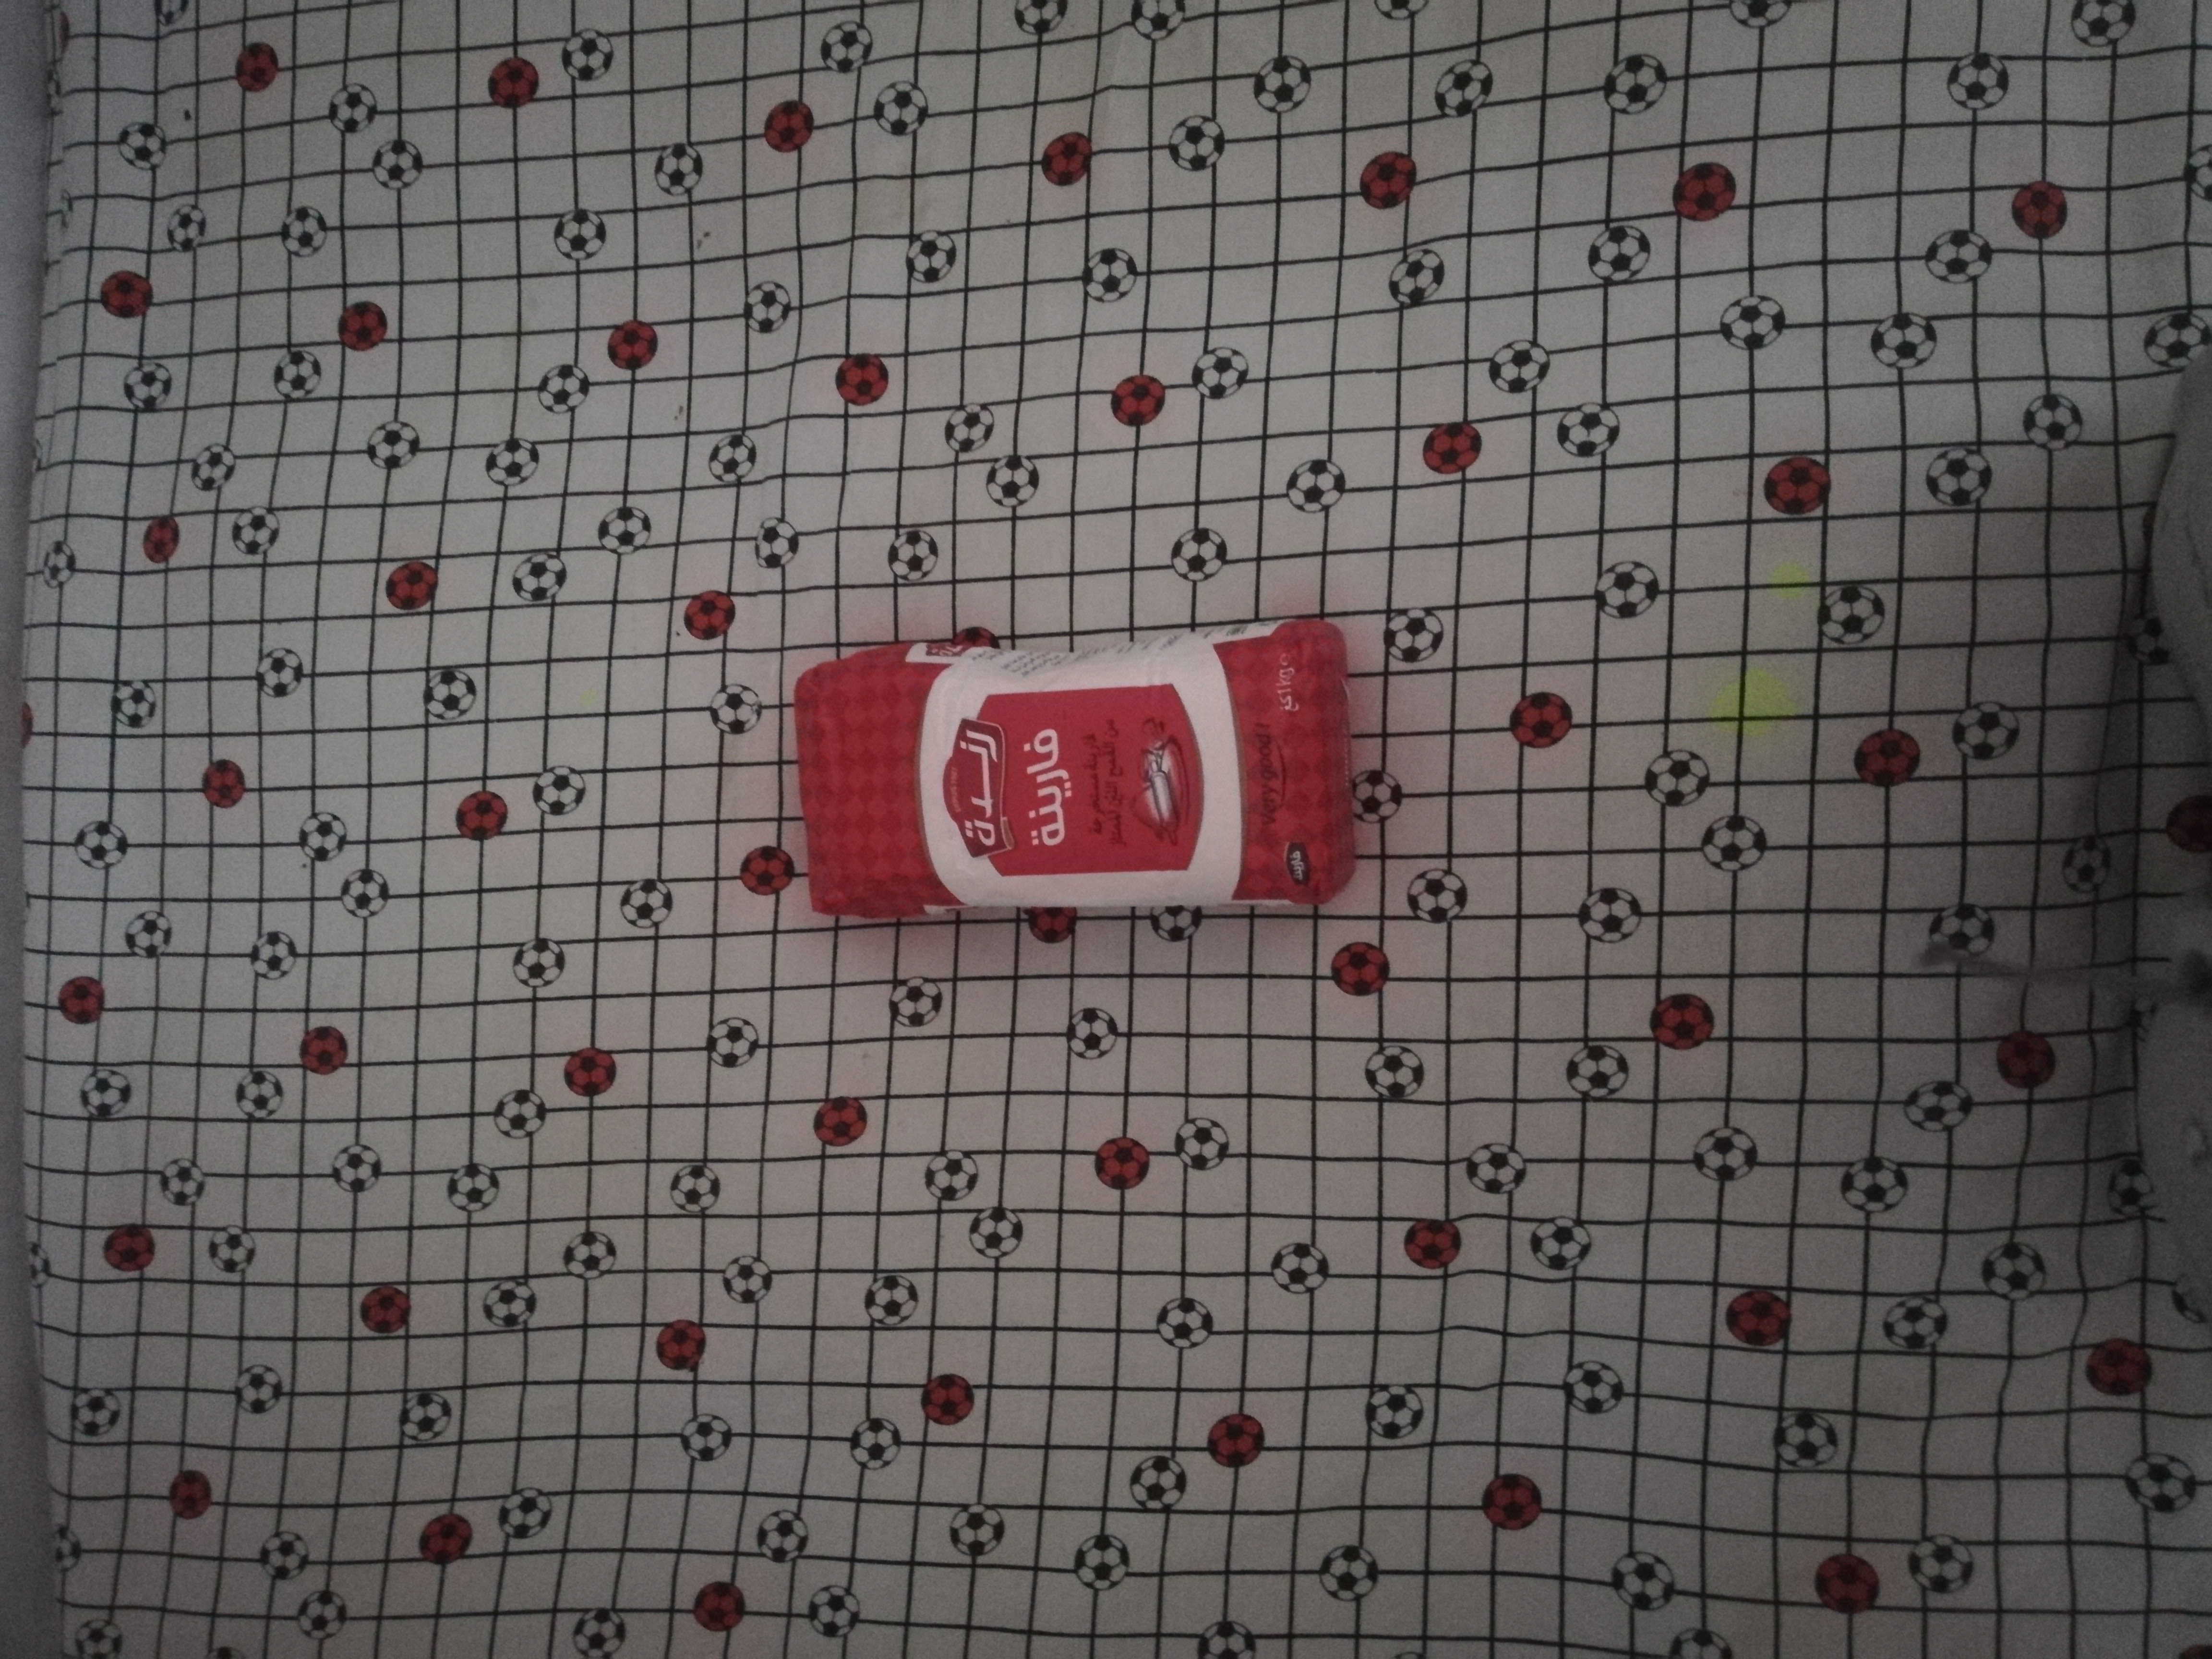Farine Randa: (792, 627, 1357, 922)
